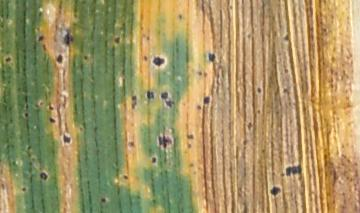tarspot: (51, 1, 65, 43), (155, 131, 173, 151), (283, 164, 304, 181), (61, 26, 73, 49), (150, 54, 165, 69), (267, 183, 281, 198), (60, 67, 68, 90), (58, 92, 68, 110), (71, 1, 80, 21), (61, 132, 73, 146), (162, 98, 175, 110), (129, 93, 138, 110), (37, 170, 49, 182), (280, 29, 290, 43), (124, 138, 136, 149), (2, 52, 11, 66), (158, 90, 170, 100), (56, 51, 63, 66), (202, 94, 210, 107), (145, 89, 153, 102), (206, 52, 216, 62), (245, 120, 254, 131), (241, 137, 248, 151), (255, 84, 263, 96), (286, 116, 294, 128), (281, 87, 290, 97), (113, 34, 121, 45), (35, 6, 42, 18), (81, 52, 90, 61), (22, 110, 31, 119), (20, 185, 28, 195), (185, 132, 195, 140), (47, 100, 54, 111), (141, 54, 150, 62), (99, 196, 108, 204), (48, 116, 56, 125), (244, 31, 252, 40), (255, 107, 262, 117), (37, 99, 45, 107), (194, 103, 202, 111), (121, 173, 130, 180), (185, 141, 192, 150), (321, 25, 328, 34), (150, 155, 156, 165), (272, 109, 282, 115), (177, 11, 183, 20), (283, 67, 289, 76), (149, 198, 158, 204), (260, 147, 267, 154), (37, 35, 44, 42), (279, 171, 285, 179), (197, 70, 203, 78), (144, 33, 150, 41), (202, 70, 207, 78), (138, 25, 144, 31), (188, 162, 194, 167), (228, 3, 233, 9)
